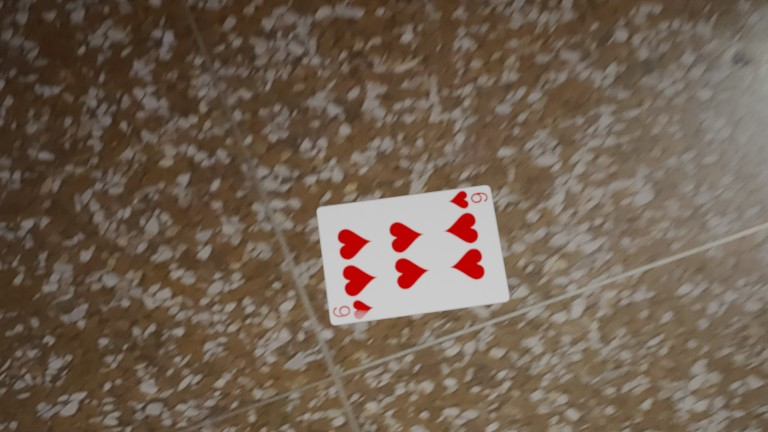6_of_hearts: (132, 118, 150, 130), (179, 74, 196, 85)
